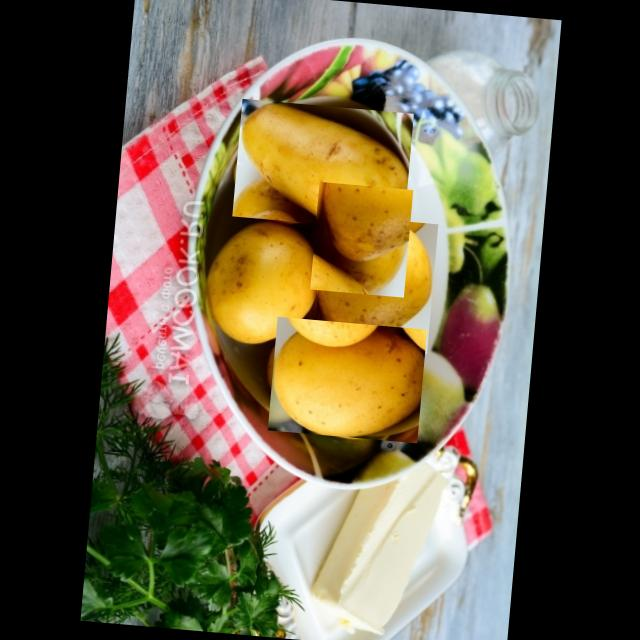Potato: (230, 98, 412, 231), (266, 316, 426, 443), (312, 214, 437, 353), (201, 217, 323, 347), (308, 181, 412, 297)
